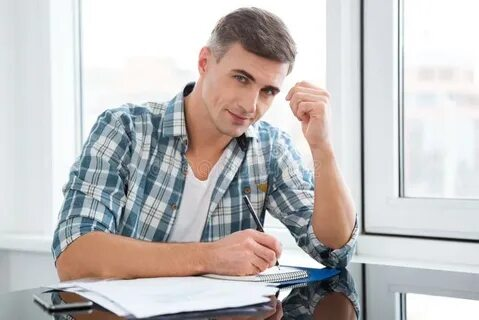awake: (50, 5, 359, 280)
